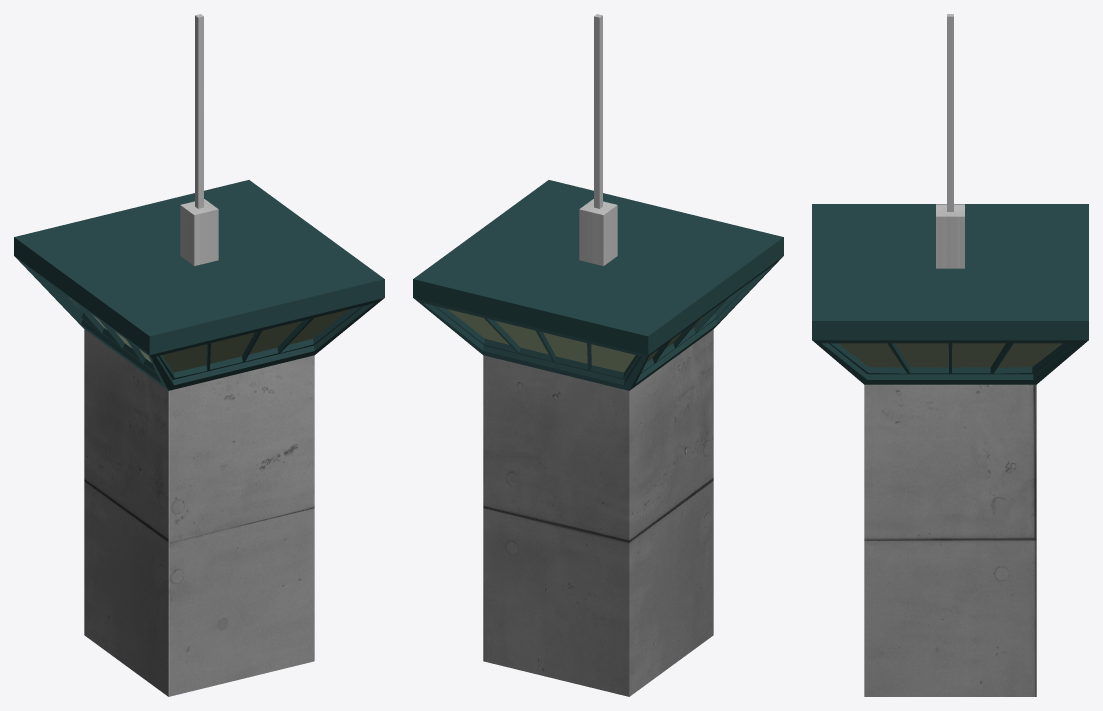
Rendered from baseblend.fbx.
The picture shows the model from 3 angles, left to right: view 1: azimuth 30°, elevation 25°; view 2: azimuth 150°, elevation 25°; view 3: azimuth 270°, elevation 25°; orthographic projection. The views are drawn at different scales.
Parts seen in each view (by area): view 1: Cube.011; view 2: Cube.011; view 3: Cube.011.
Boxes of the visible parts, x1,y1,x2,y2 form: Cube.011: (14,14,384,696); Cube.011: (413,14,783,696); Cube.011: (812,14,1088,696).
Bounding box in the file's own units: 804 × 804 × 2066.
3 materials, 3 textured.
